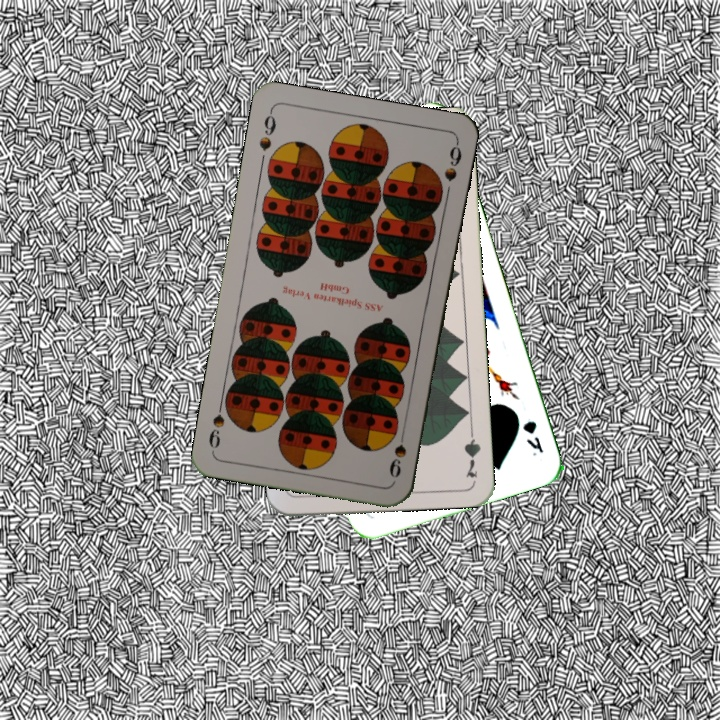G7: (460, 421, 483, 481)
GK: (518, 416, 546, 458)
S9: (385, 423, 409, 480), (255, 106, 279, 153)
